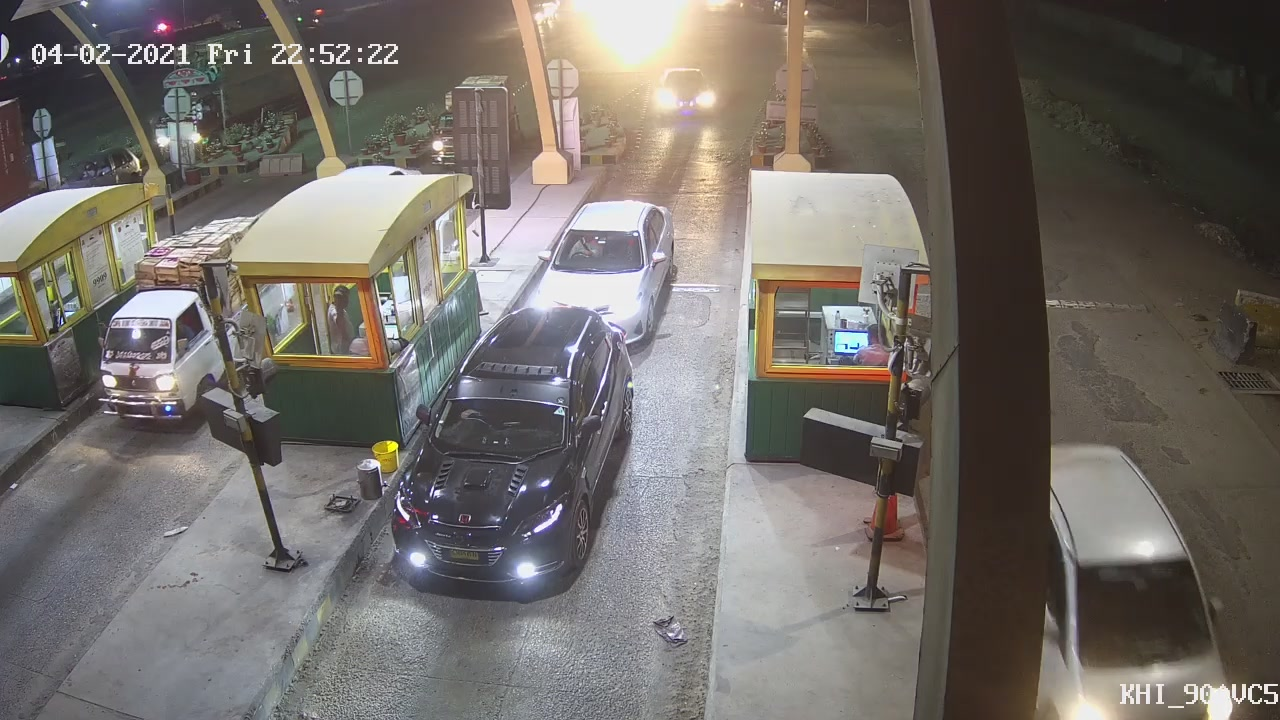F1: (385, 300, 643, 600)
